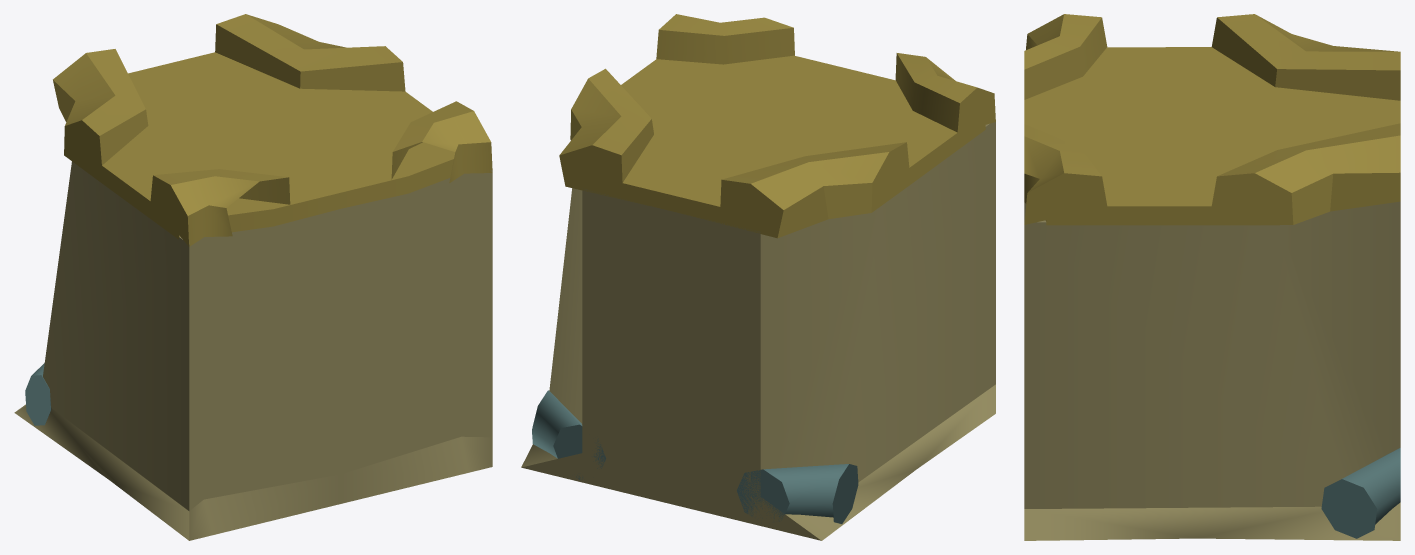
The model's file is Int_15_Cross_Full.fbx.
3 views of the same model, side by side, from view 1: azimuth 30°, elevation 25°; view 2: azimuth 150°, elevation 25°; view 3: azimuth 270°, elevation 25° (orthographic). The views are drawn at different scales.
Parts seen in each view (by area): view 1: Int_15_Cross_Full; view 2: Int_15_Cross_Full; view 3: Int_15_Cross_Full.
Part boxes in pixels (<box>): Int_15_Cross_Full: <box>14,14,492,540</box>; Int_15_Cross_Full: <box>521,14,995,540</box>; Int_15_Cross_Full: <box>1024,14,1400,540</box>.
Size of the model in its own units: 1 by 1.08 by 1.
